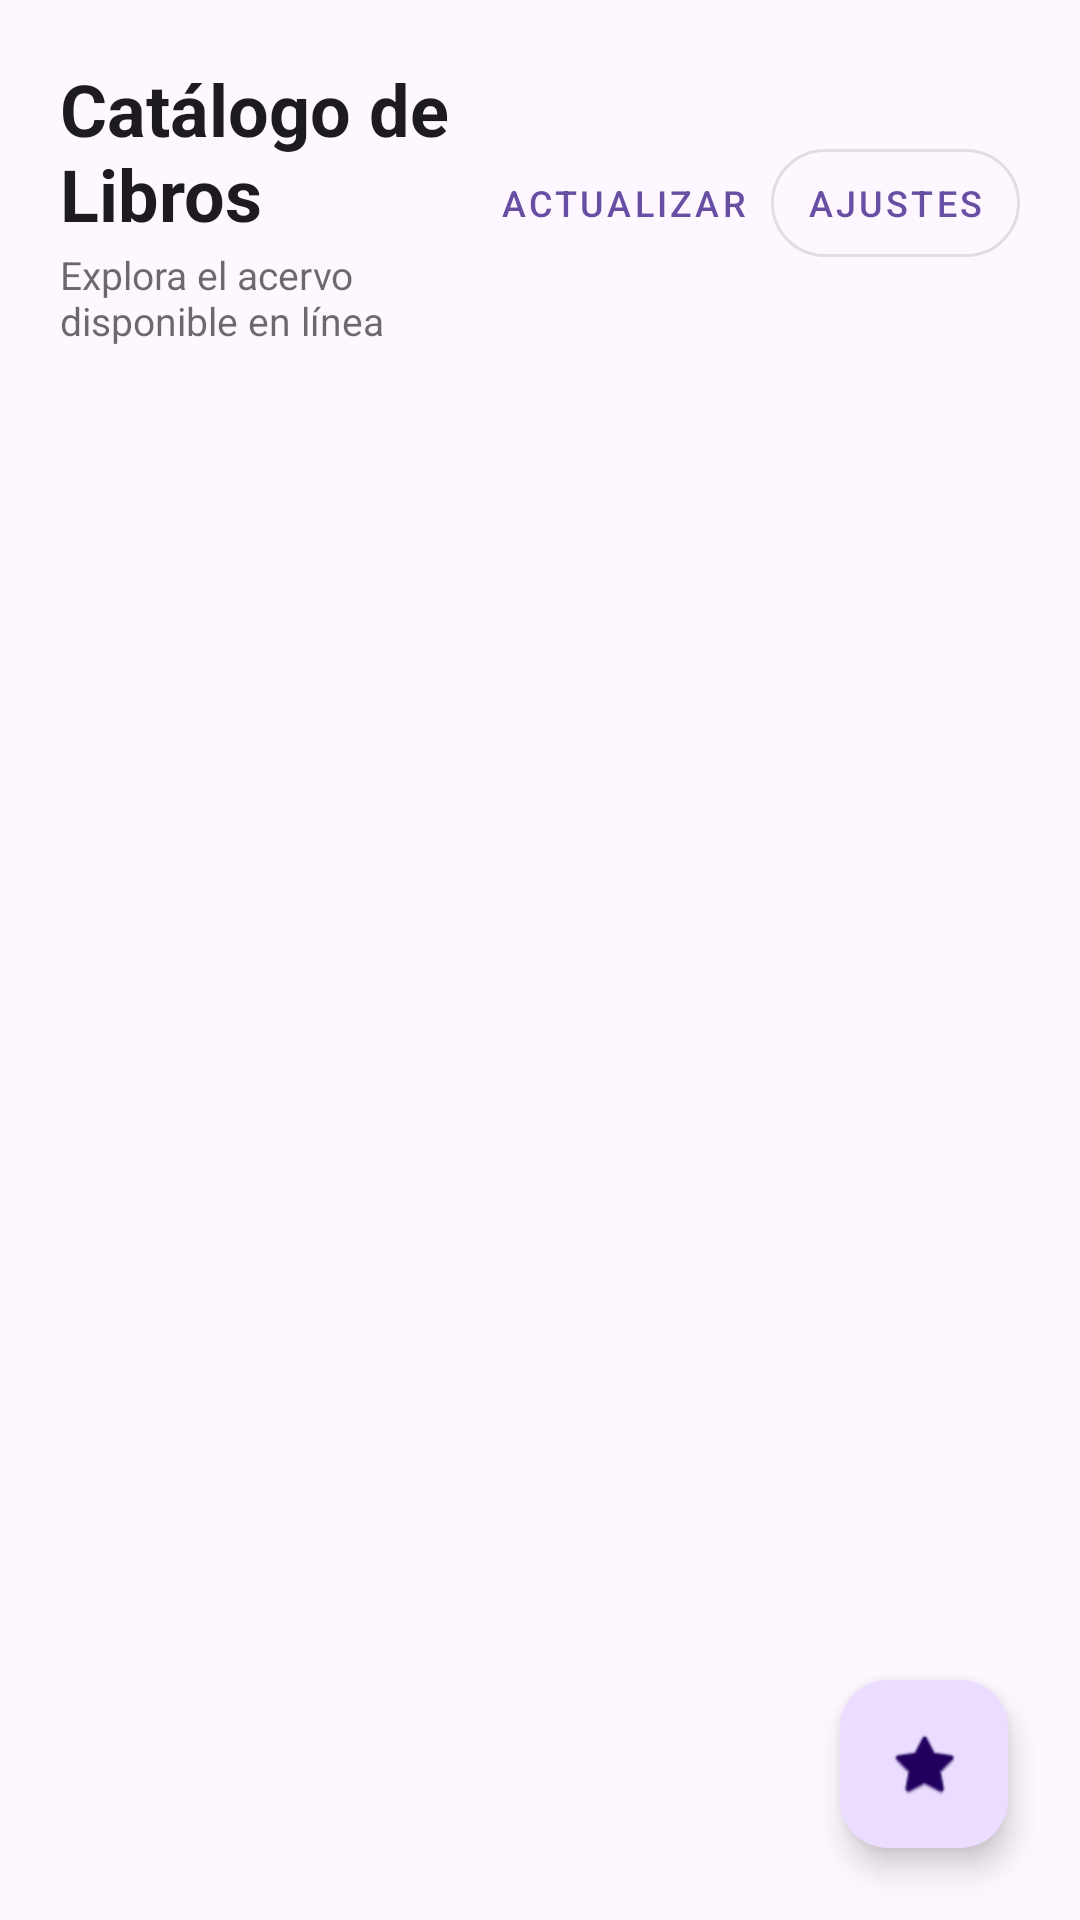

Named icons in this screenshot (1080*1920) and their centers, (x,y):
Ver favoritos: (924,1764)
